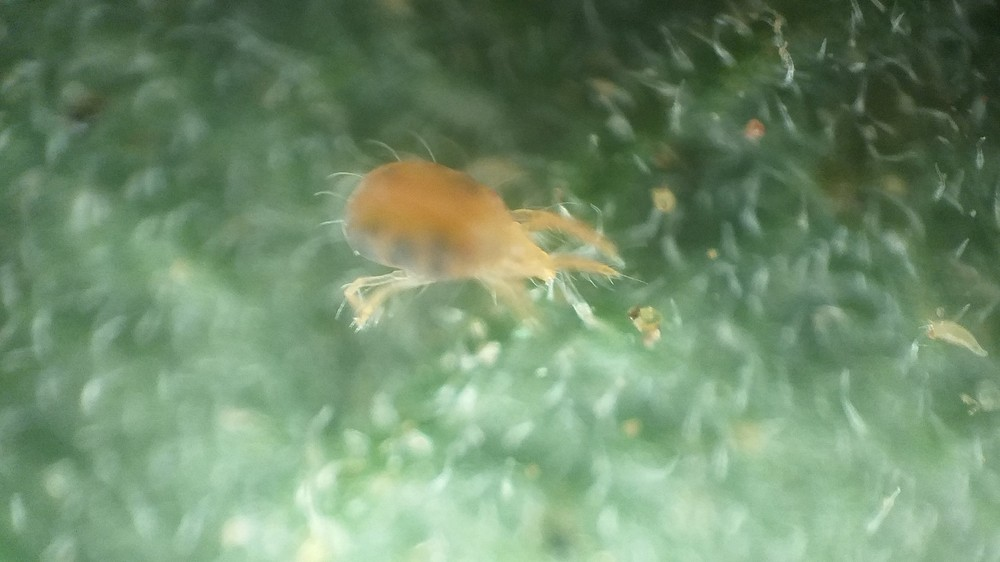Aracnido Rojo: (264, 119, 662, 371)
